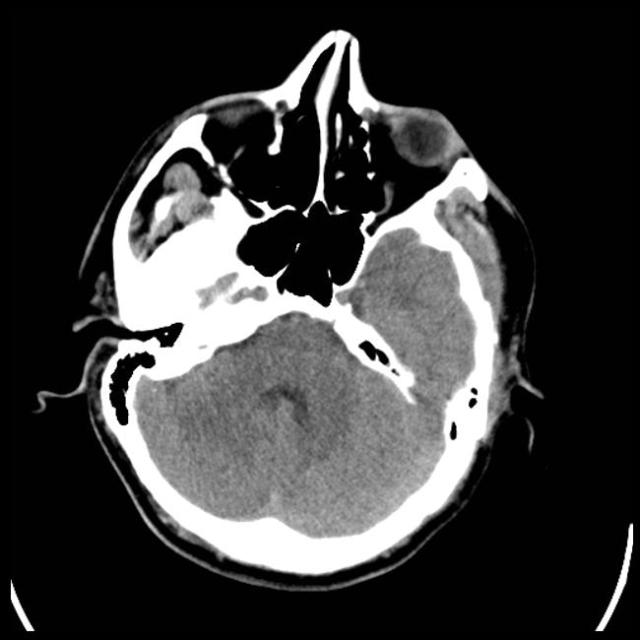lesion: (41, 28, 544, 592)
